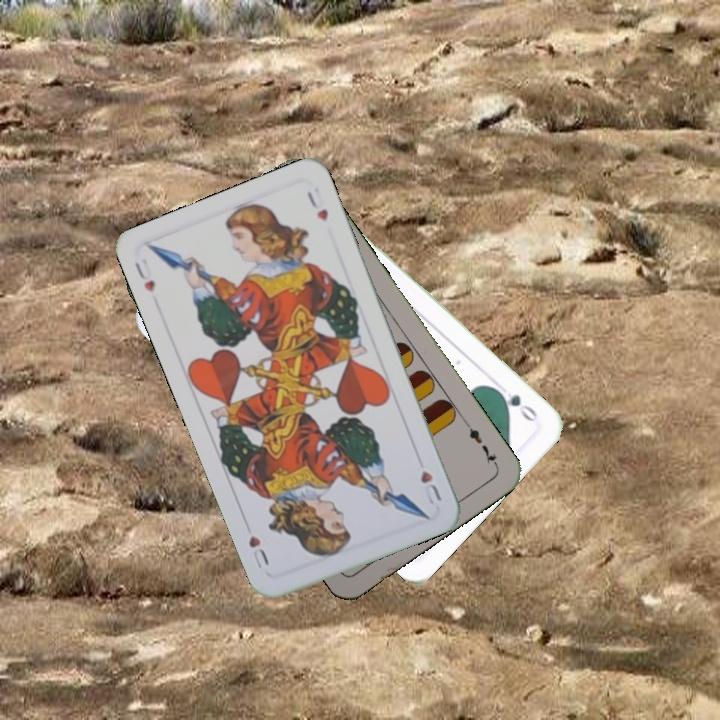E7: (461, 418, 501, 469)
GO: (491, 384, 541, 425)
HU: (416, 466, 445, 508), (130, 258, 158, 295)
